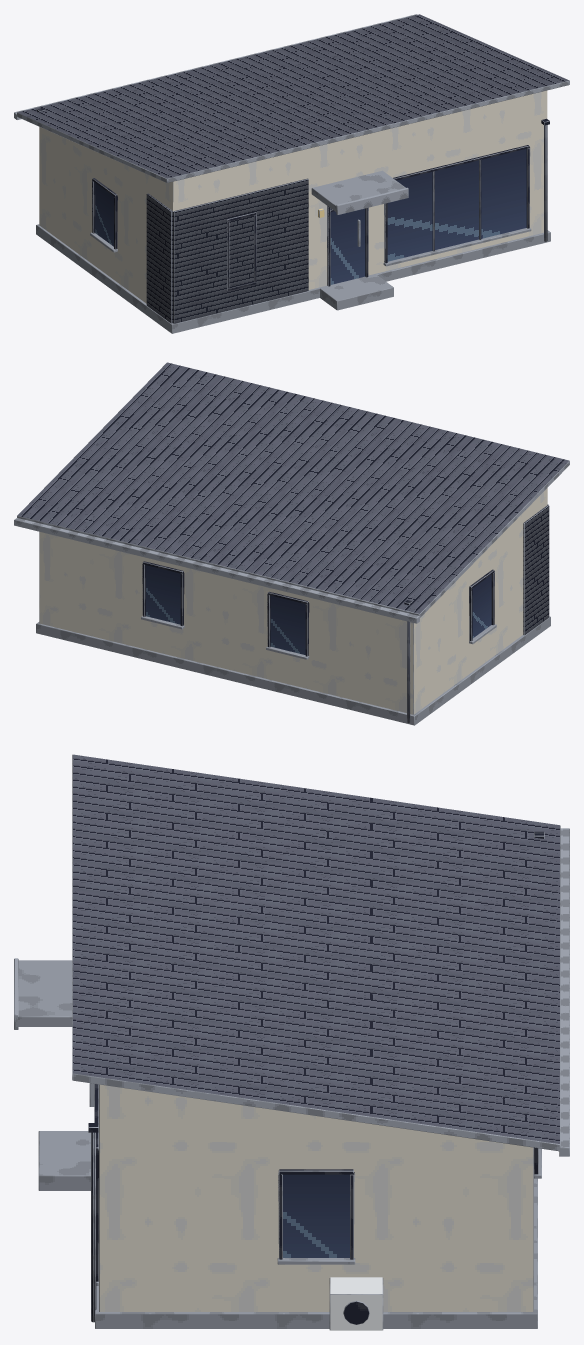
File: modern_house_7.glb
3 renders of one model, top to bottom at view 1: azimuth 30°, elevation 25°; view 2: azimuth 150°, elevation 25°; view 3: azimuth 270°, elevation 25°, orthographic. The views are drawn at different scales.
Parts seen in each view (by area): view 1: modern_house_8; view 2: modern_house_8; view 3: modern_house_8.
Boxes of the visible parts, <box> form: modern_house_8: <box>14,14,569,333</box>; modern_house_8: <box>14,362,569,725</box>; modern_house_8: <box>14,754,569,1330</box>.
Size of the model in its own units: 11.58 by 4.37 by 8.31.
10 materials, 10 textured.
